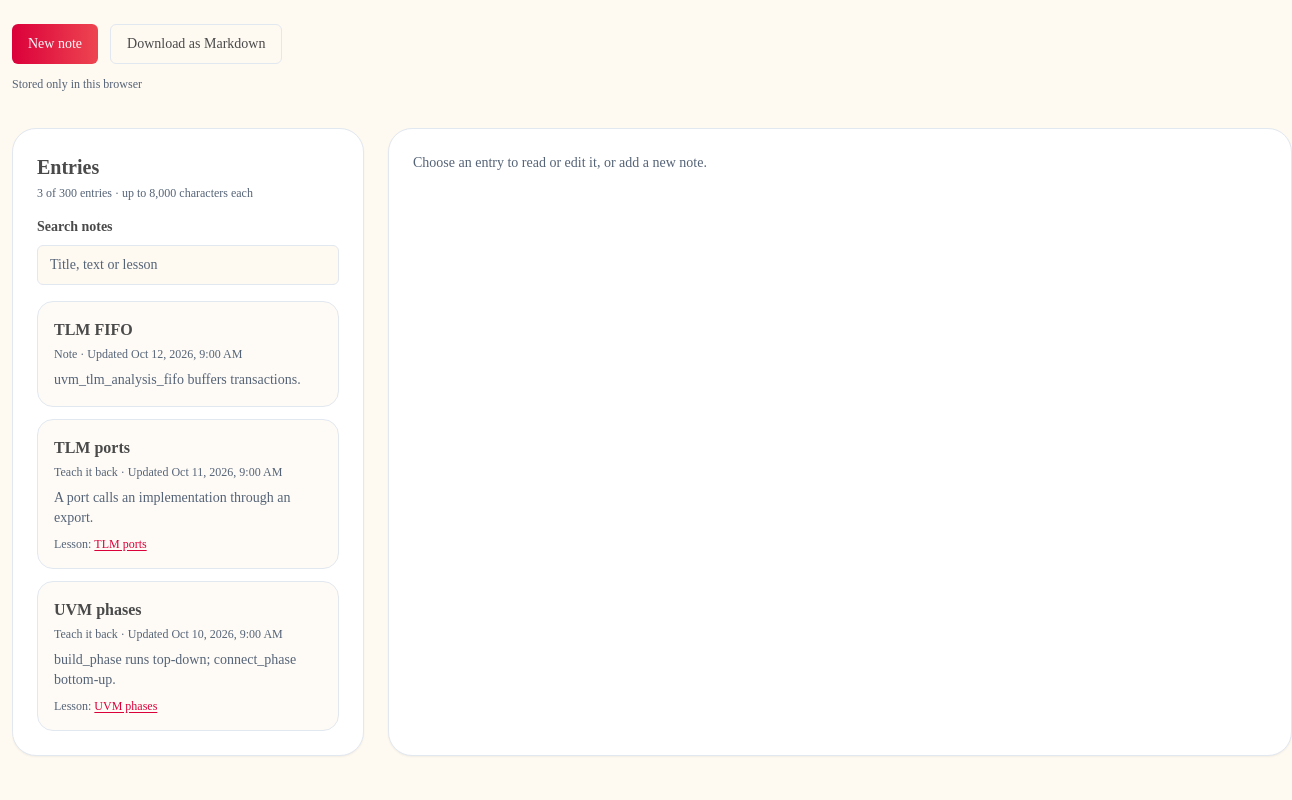
Test case: /dashboard/notebook › deletes an entry only after a two-step inline confirm
Click the button "TLM FIFO" at (93, 330), box [54, 318, 322, 342]
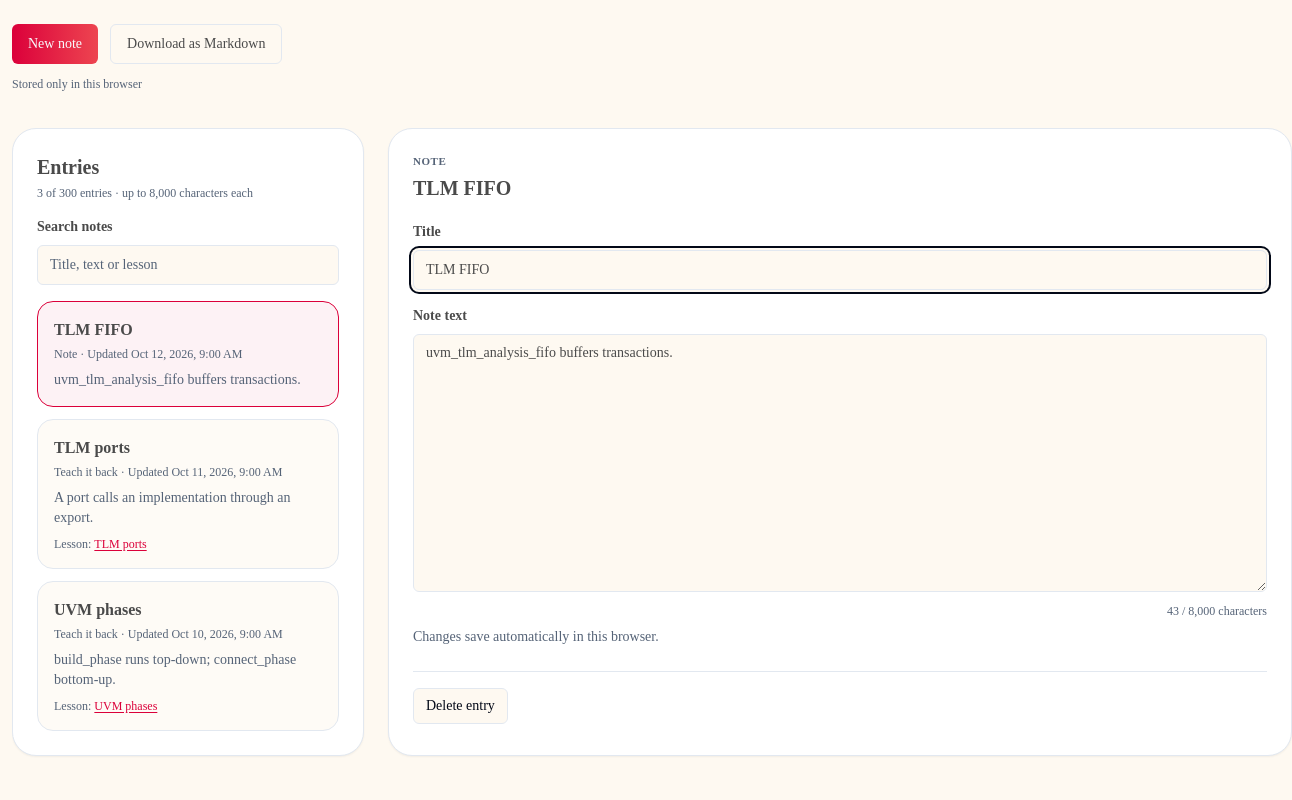
Click the button "Delete entry" at (460, 706), box [413, 688, 508, 724]
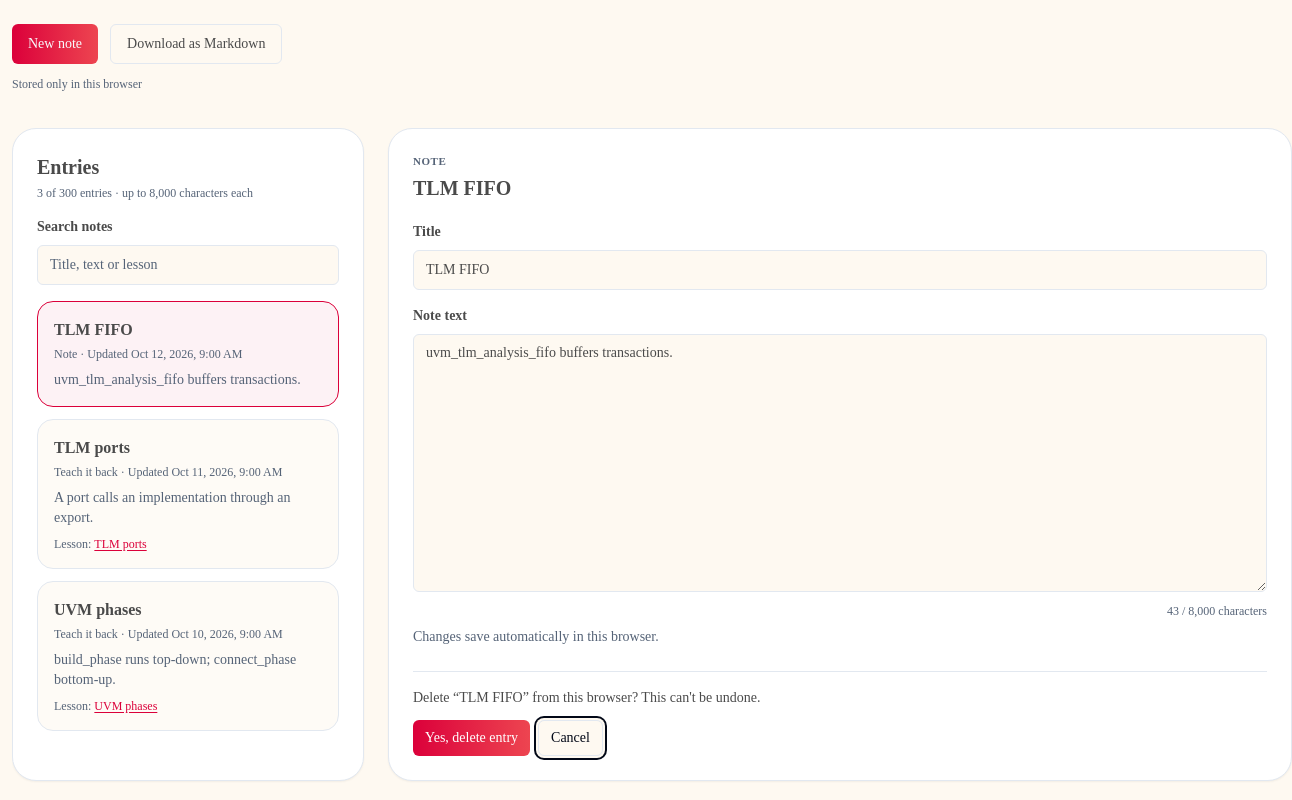
Result: the text "Delete “TLM FIFO” from this browser? This can't be undone." is shown at [413, 690, 760, 704]
Click the button "Cancel" at (571, 738), box [538, 720, 603, 756]
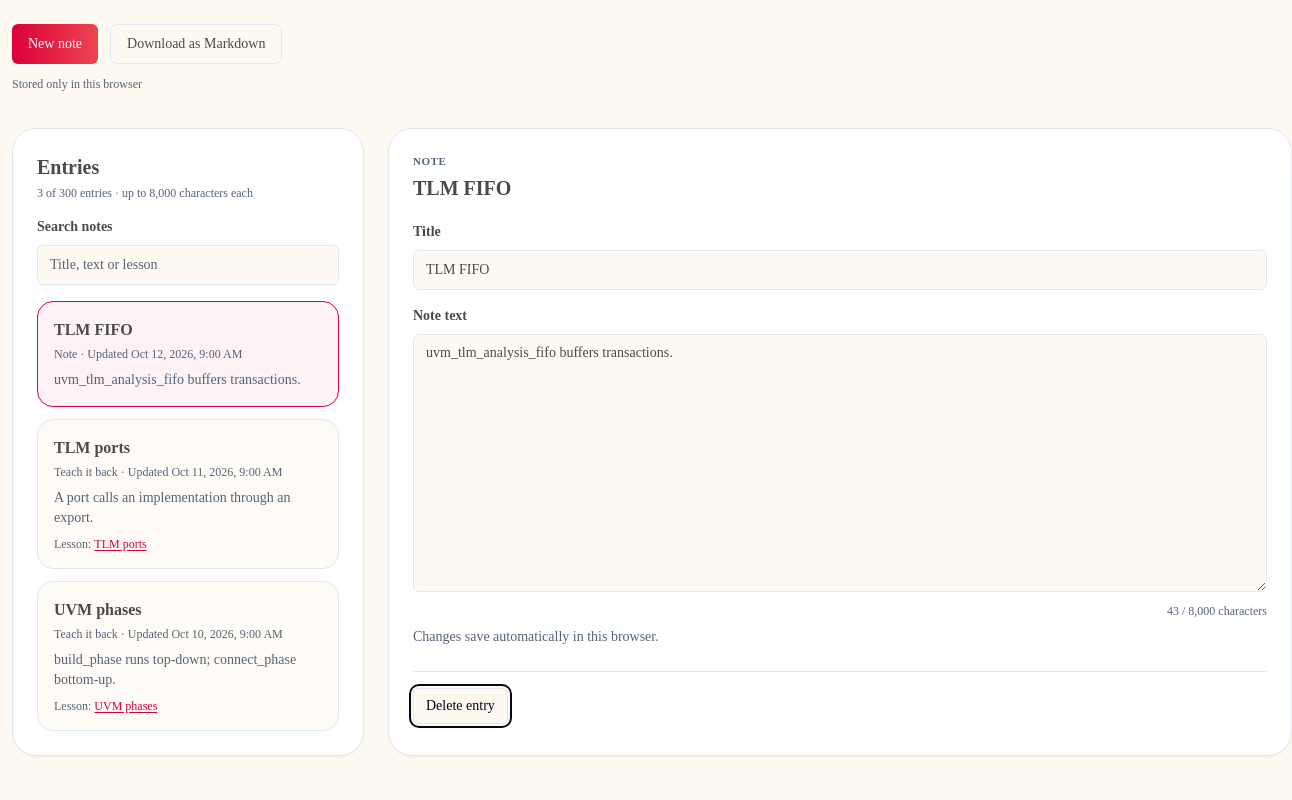
Click the button "Delete entry" at (460, 706), box [413, 688, 508, 724]
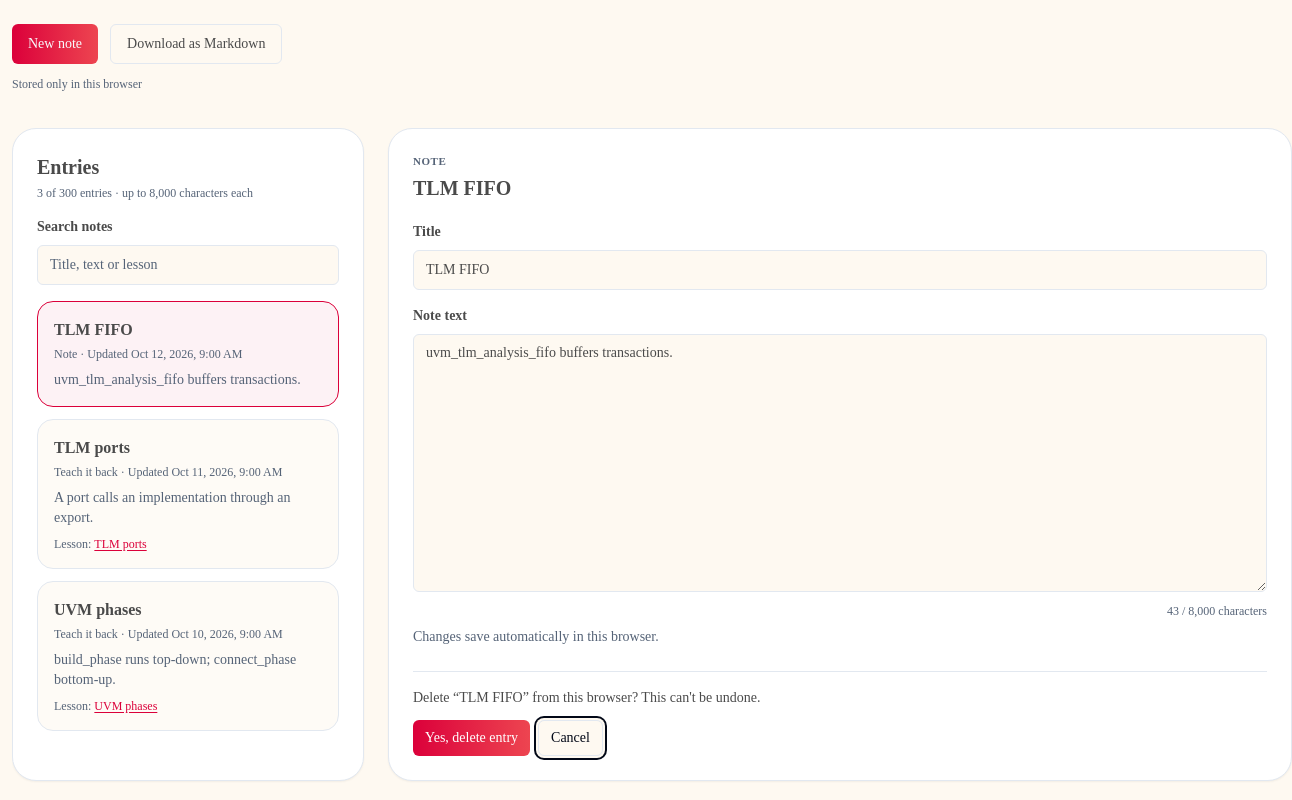
Click the button "Yes, delete entry" at (472, 738), box [413, 720, 530, 756]
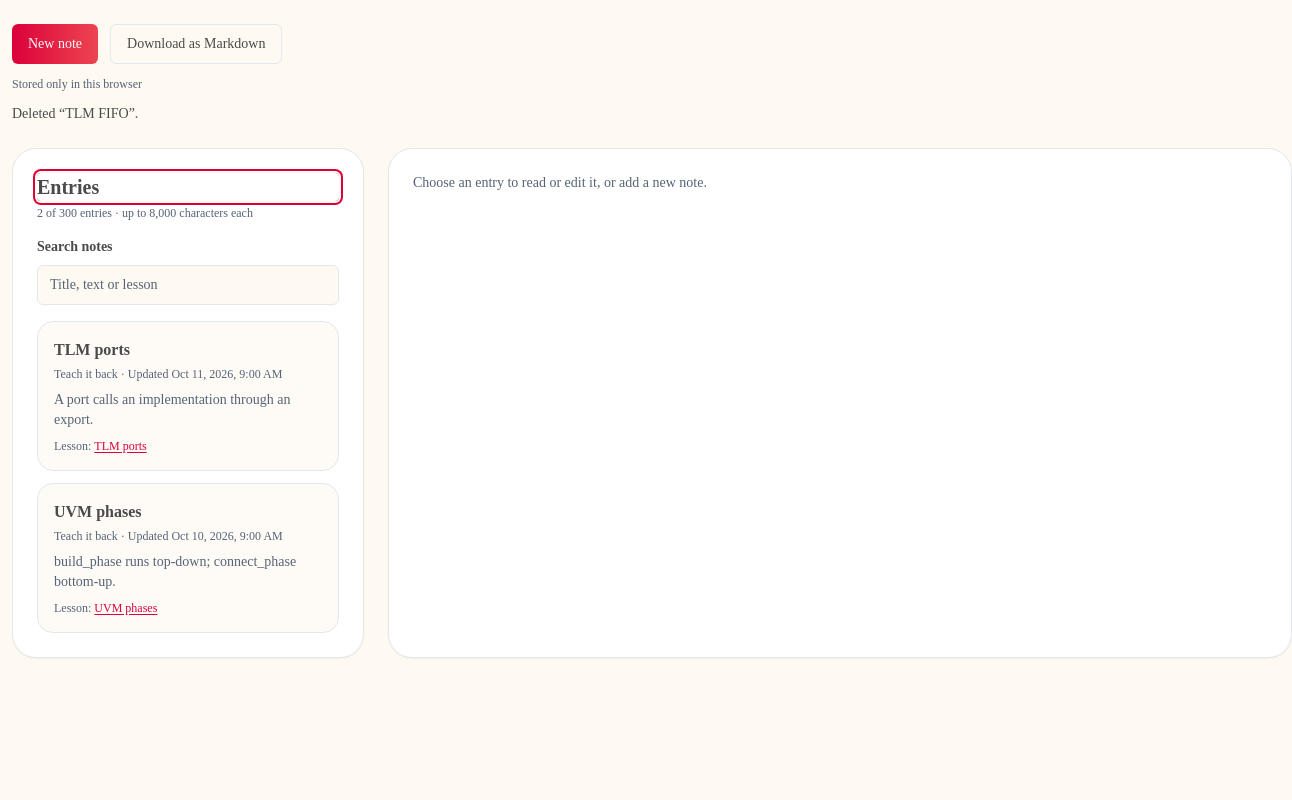
Result: the text "Deleted “TLM FIFO”." is shown at [12, 106, 138, 121]
